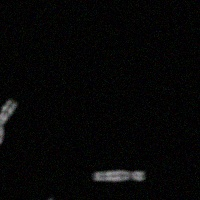chromosome: (95, 168, 146, 184), (0, 100, 17, 145)
